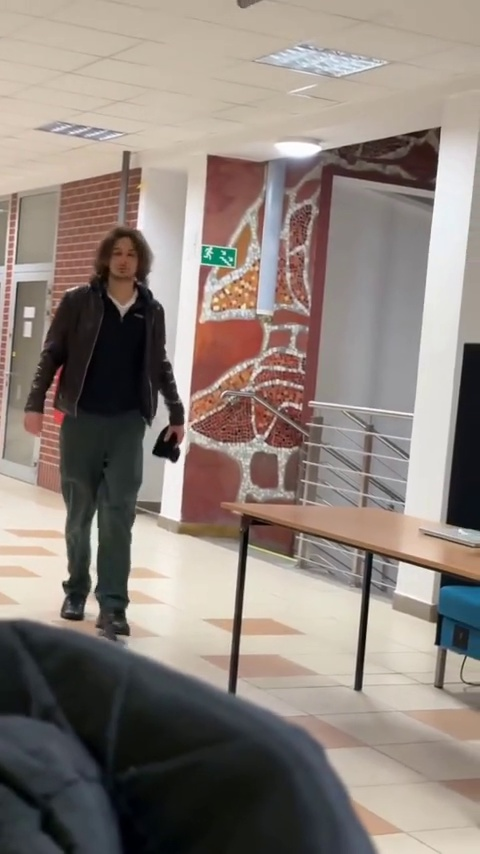no vest: (30, 226, 194, 639)
